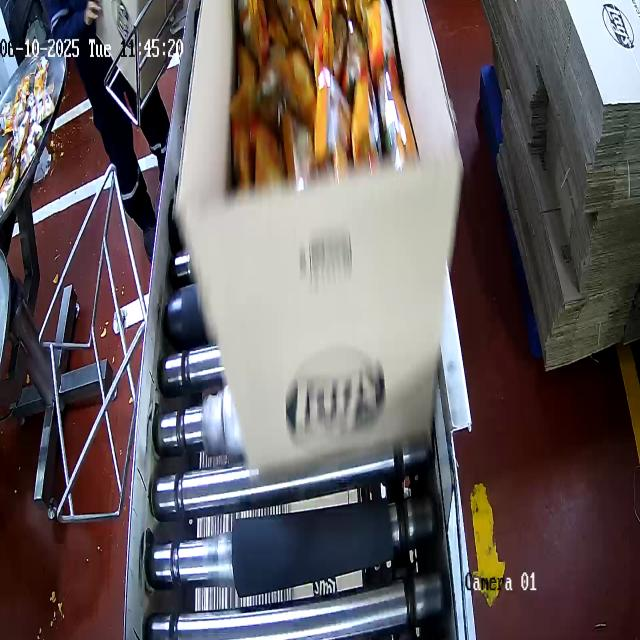FRENCH_CHEESE: (226, 1, 406, 174)
